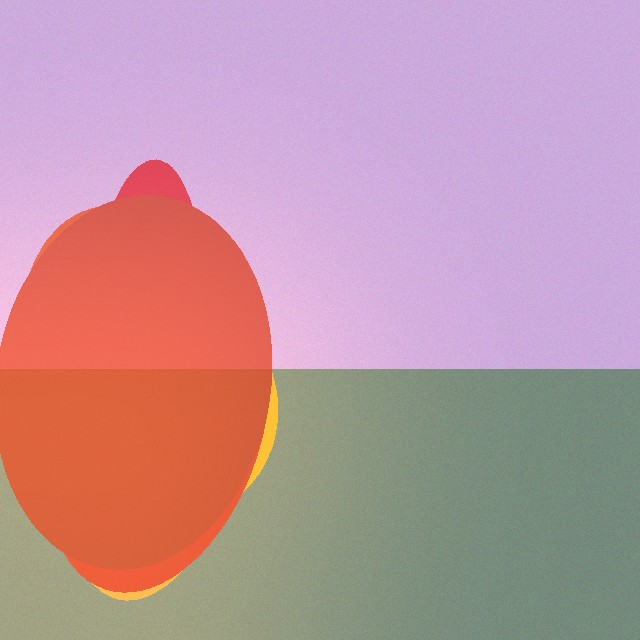fire: (13, 361, 293, 489)
